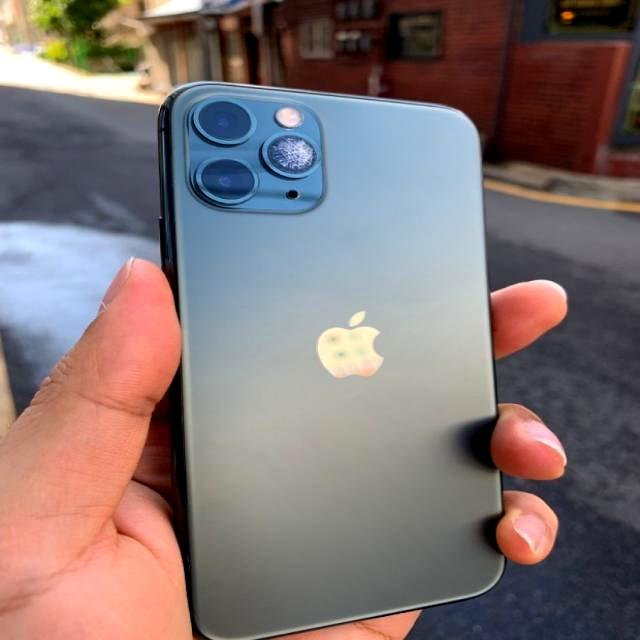lens_back: (190, 154, 260, 207), (188, 96, 259, 148), (259, 130, 322, 180)
phone: (152, 74, 510, 640)
